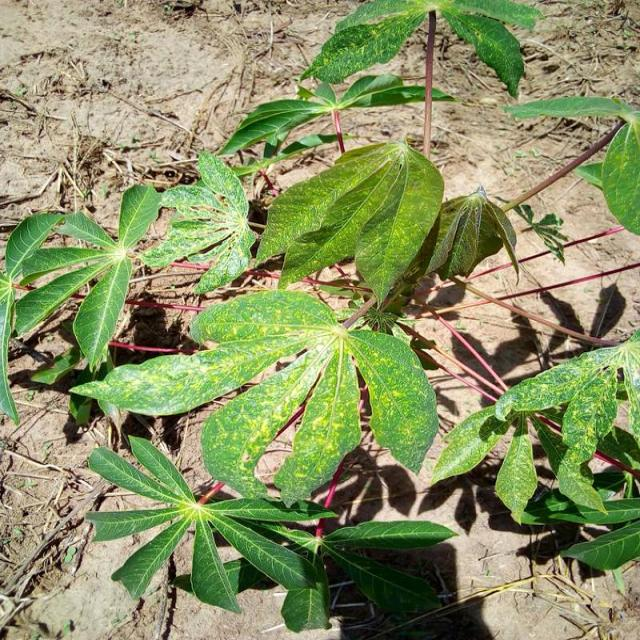cassava leaf: (70, 287, 441, 507), (255, 139, 446, 310)
